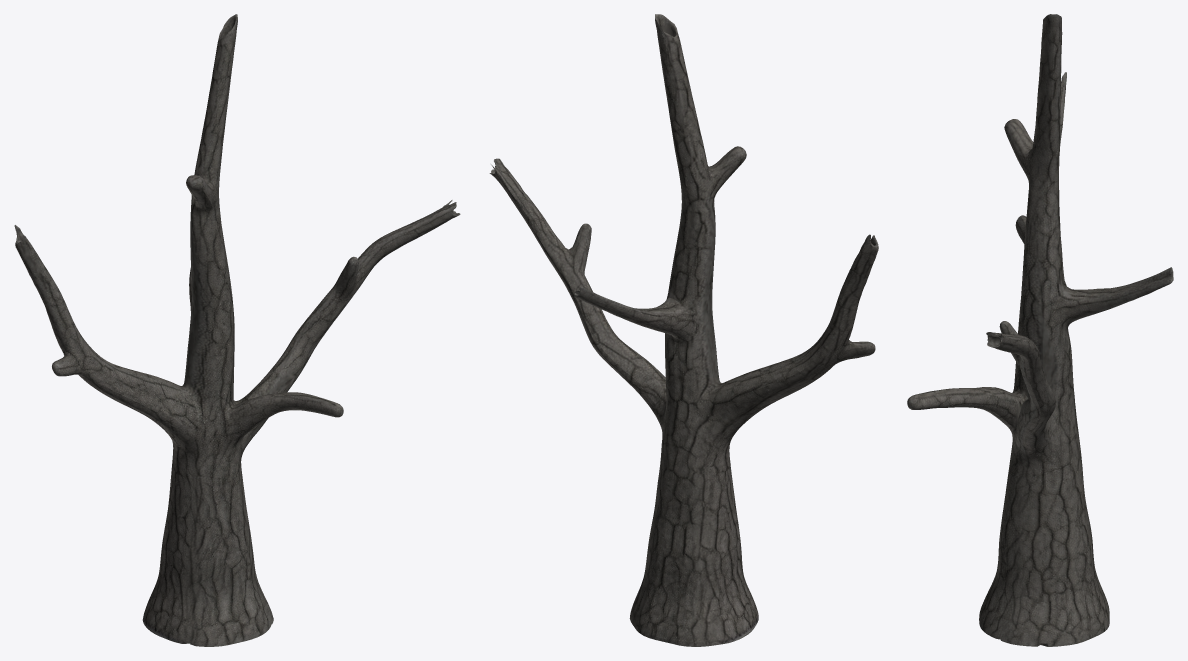
The model's file is m18-dead-tree.glb.
The picture shows the model from 3 angles, left to right: view 1: azimuth 30°, elevation 25°; view 2: azimuth 150°, elevation 25°; view 3: azimuth 270°, elevation 25°; orthographic projection. The views are drawn at different scales.
Size of the model in its own units: 1.38 by 1.9 by 0.7355.
Materials: 1 (1 with a texture image).
